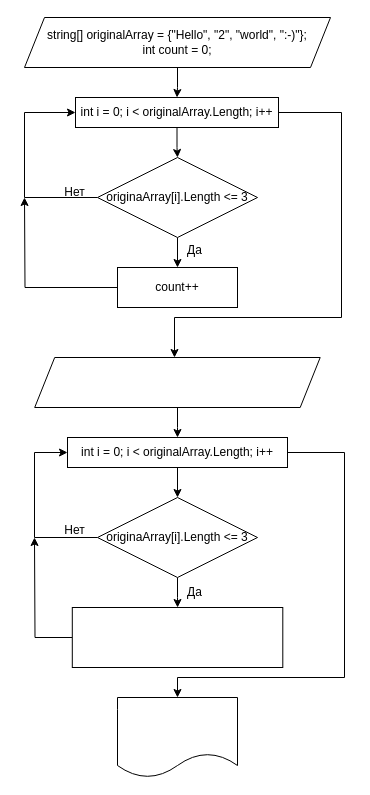
This 370x795 diagram has some shape labels left out. Here are the shapes that lost their labels. From the top down, the box of each, then its label:
(34, 356, 320, 408): string[] newArray = new string[count] int index = 0;
(71, 606, 283, 668): newArray[index] = originalArray[i] index++
(116, 696, 238, 778): PrintArray(newArray)
